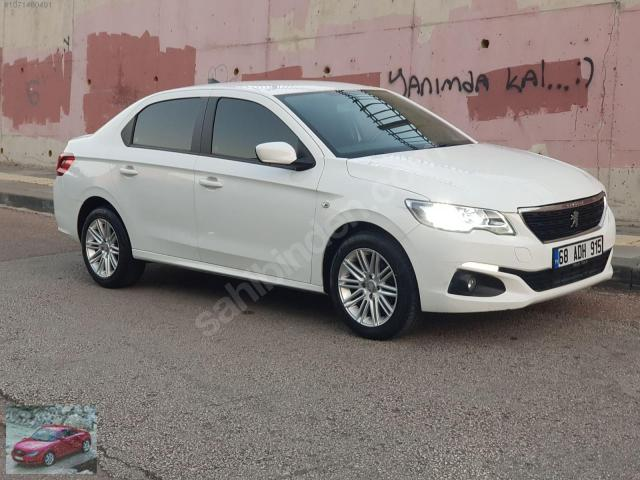plaka: (552, 236, 604, 268)
